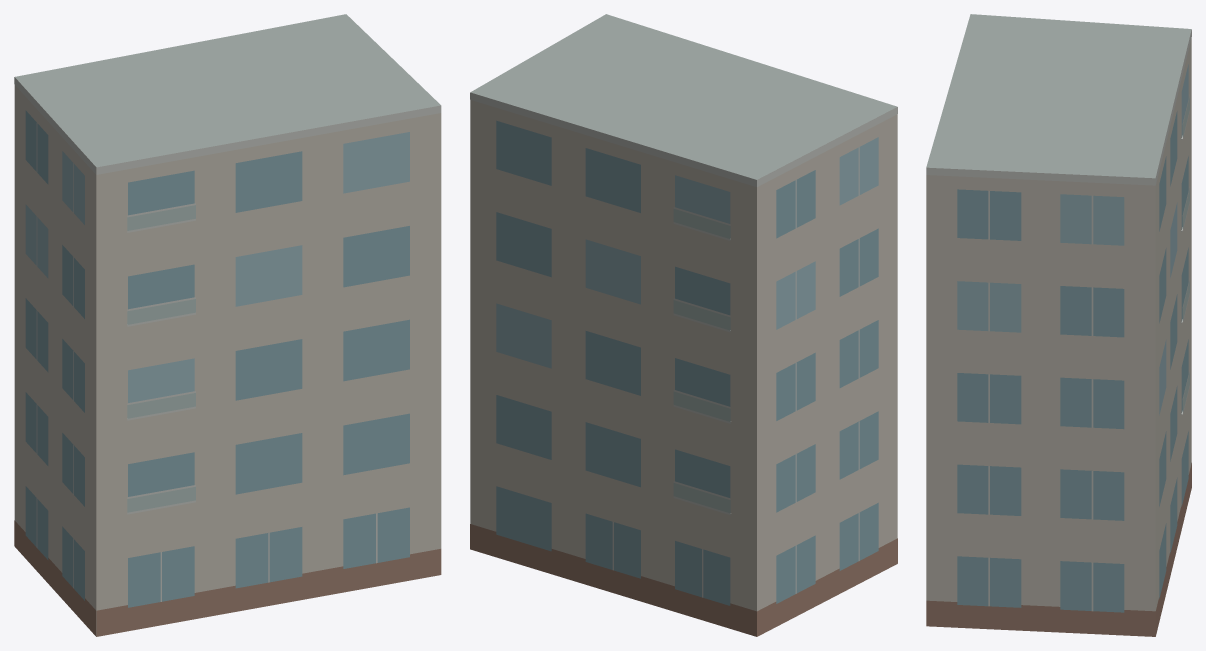
Rendered from residential-796c79f0-84da-41e3-a57a-45f4633b9aa1.glb.
The picture shows the model from 3 angles, left to right: view 1: azimuth 30°, elevation 25°; view 2: azimuth 150°, elevation 25°; view 3: azimuth 270°, elevation 25°; orthographic projection. The views are drawn at different scales.
Visible parts, largest first — view 1: residential-796c79f0-84da-41e3-a57a-45f4633b9aa1.tmp; view 2: residential-796c79f0-84da-41e3-a57a-45f4633b9aa1.tmp; view 3: residential-796c79f0-84da-41e3-a57a-45f4633b9aa1.tmp.
Part boxes in pixels (x1=…): residential-796c79f0-84da-41e3-a57a-45f4633b9aa1.tmp: x1=14, y1=14, x2=441, y2=636; residential-796c79f0-84da-41e3-a57a-45f4633b9aa1.tmp: x1=470, y1=14, x2=897, y2=636; residential-796c79f0-84da-41e3-a57a-45f4633b9aa1.tmp: x1=926, y1=14, x2=1191, y2=636.
Bounding box in the file's own units: 11.73 × 15.25 × 8.02.
